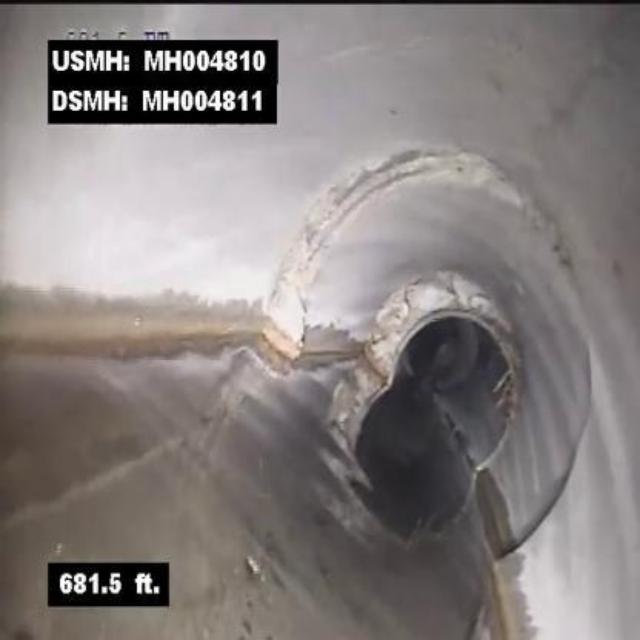Joint offset: (257, 168, 348, 362), (358, 132, 526, 205)
